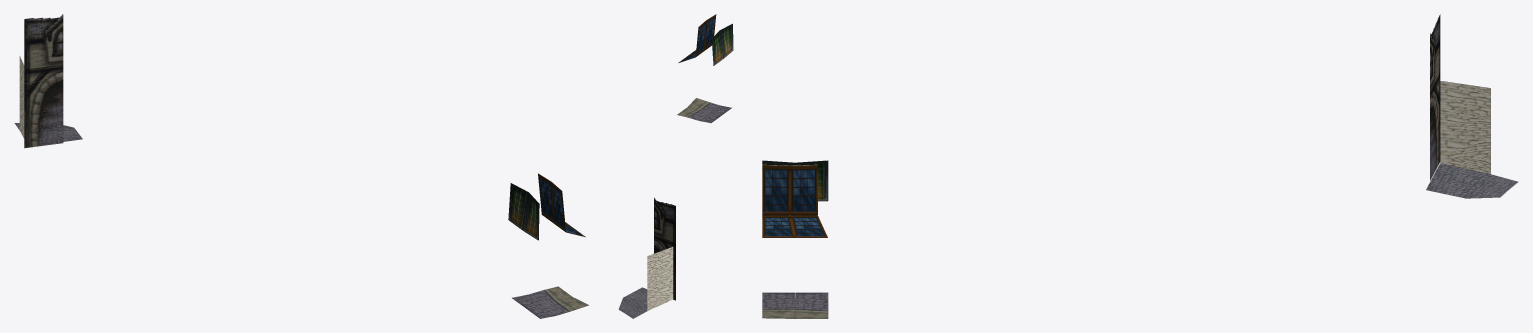
The picture shows the model from 3 angles, left to right: view 1: azimuth 30°, elevation 25°; view 2: azimuth 150°, elevation 25°; view 3: azimuth 270°, elevation 25°; orthographic projection. The views are drawn at different scales.
Parts seen in each view (by area): view 1: T1I0M003_0, T1I0M003_1; view 2: T1I0M003_0, T1I0M003_1; view 3: T1I0M003_0, T1I0M003_1.
Boxes of the visible parts, x1,y1,x2,y2 form: T1I0M003_0: [14, 14, 82, 148]; T1I0M003_1: [508, 173, 588, 318]; T1I0M003_0: [618, 197, 675, 318]; T1I0M003_1: [677, 14, 733, 123]; T1I0M003_0: [1426, 14, 1518, 198]; T1I0M003_1: [762, 160, 828, 318].
Size of the model in its own units: 21.5 by 10.5 by 45.81.
